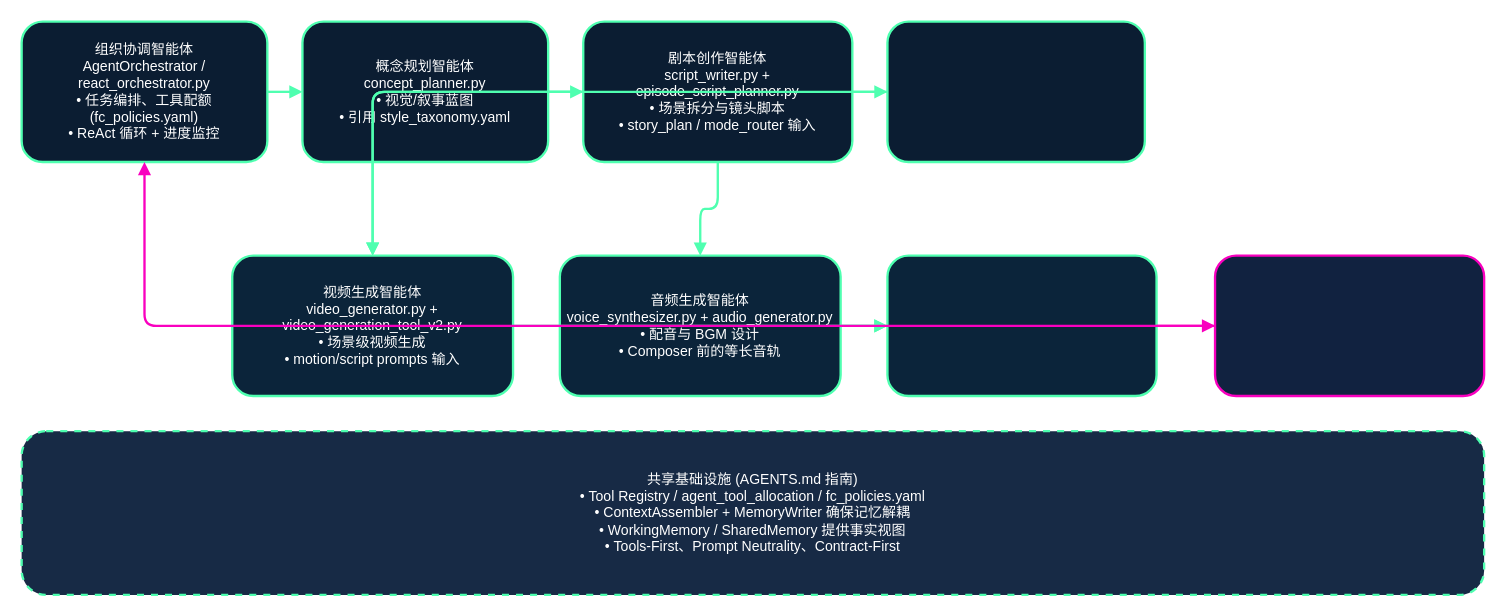
The diagram is 1505 pixels wide and 615 high, and some of its shapes have lost their labels. The shapes that lost their labels are listed below. From the top down, each one's box as (x1, y1, x2, y2) in pixels, then its label:
(886, 20, 1145, 163): 角色设计智能体 image_generator.py + reference_bank.py • 角色视觉统一 • 输出多视角参考
(886, 254, 1157, 397): 合成加工智能体 video_composer.py • 多轨混合、ducking、对齐 • artifacts.py 构建交付物
(1213, 254, 1485, 397): 质量控制智能体 quality_checker.py + consistency_tool.py • 成品检测、自动修正 • 反馈 orchestrator
